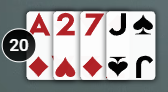2: (54, 11, 77, 39)
7: (81, 11, 105, 39)
a: (27, 12, 53, 40)
j: (105, 10, 130, 39)
